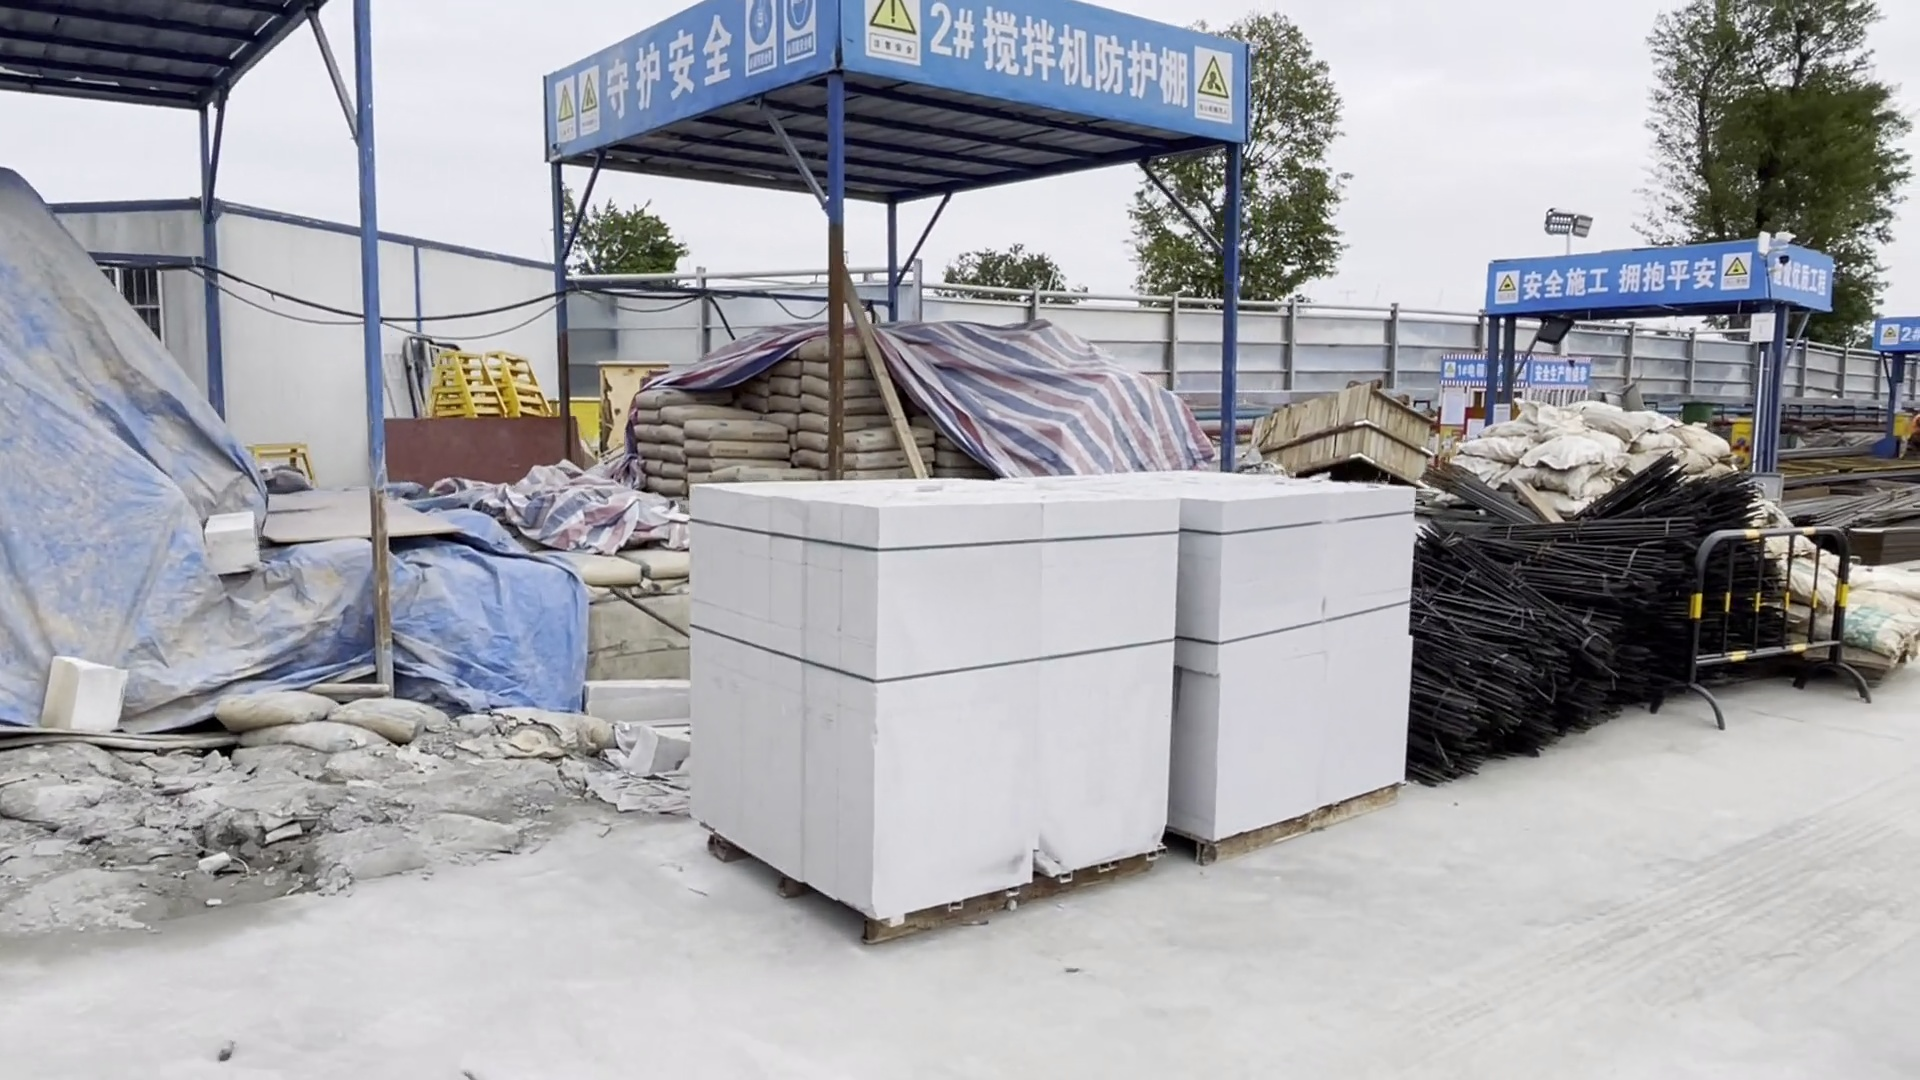brick: (679, 469, 1178, 942), (1031, 462, 1419, 895)
ebox: (589, 353, 659, 462)
slogan: (574, 36, 727, 113), (1507, 260, 1721, 311)
